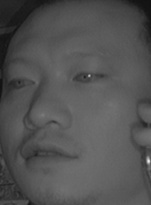eye: (72, 63, 104, 88), (7, 72, 37, 94)
mouth: (20, 134, 82, 174)
